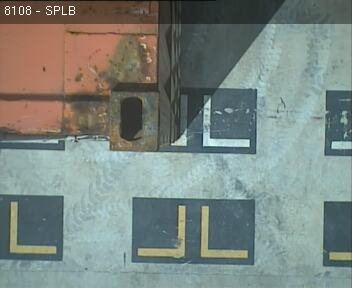groundmarker_1: (136, 206, 248, 256), (172, 95, 250, 146)
